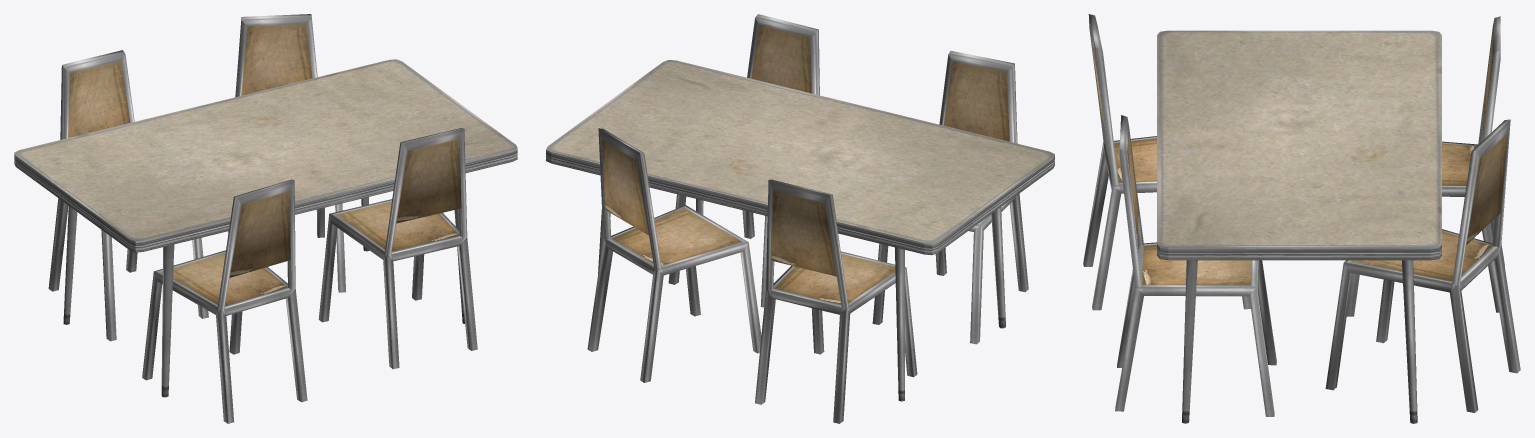
Rendered from slum_rectangle.fbx.
3 renders of one model, left to right at view 1: azimuth 30°, elevation 25°; view 2: azimuth 150°, elevation 25°; view 3: azimuth 270°, elevation 25°, orthographic. The views are drawn at different scales.
Parts seen in each view (by area): view 1: mesh_0, mesh_5, mesh_4, mesh_2, mesh_3, mesh_1; view 2: mesh_0, mesh_2, mesh_3, mesh_4, mesh_5, mesh_1; view 3: mesh_0, mesh_3, mesh_5, mesh_4, mesh_2, mesh_1.
Boxes of the visible parts, x1,y1,x2,y2 form: mesh_0: (14, 59, 517, 252); mesh_5: (318, 128, 477, 369); mesh_4: (142, 179, 307, 423); mesh_2: (48, 50, 208, 341); mesh_3: (228, 14, 345, 292); mesh_1: (63, 197, 464, 397); mesh_0: (546, 60, 1054, 255); mesh_2: (755, 179, 917, 423); mesh_3: (587, 128, 761, 382); mesh_4: (872, 51, 1028, 344); mesh_5: (668, 14, 819, 307); mesh_1: (598, 199, 1005, 401); mesh_0: (1157, 30, 1441, 260); mesh_3: (1325, 119, 1520, 412); mesh_5: (1115, 115, 1276, 416); mesh_4: (1083, 14, 1250, 310); mesh_2: (1346, 16, 1504, 316); mesh_1: (1182, 260, 1417, 423).
Size of the model in its own units: 180 by 99.11 by 153.
2 materials, 2 textured.
